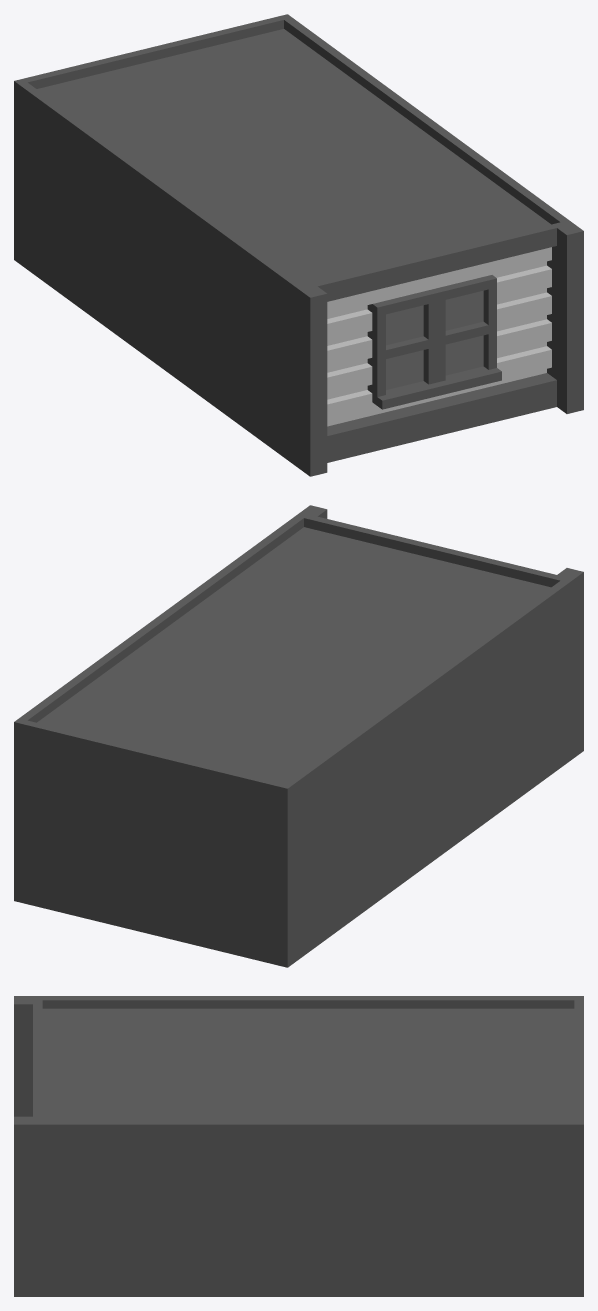
Rendered from bld_story03c.obj.
3 renders of one model, top to bottom at view 1: azimuth 30°, elevation 25°; view 2: azimuth 150°, elevation 25°; view 3: azimuth 270°, elevation 25°, orthographic. The views are drawn at different scales.
Bounding box in the file's own units: 32 × 20 × 60.
